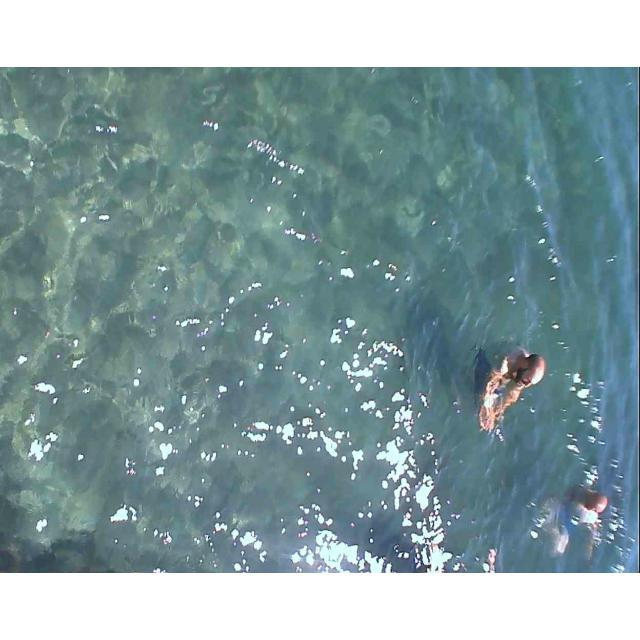human: (477, 335, 558, 452)
